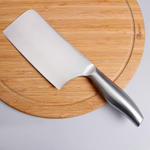knief: (5, 14, 145, 129)
